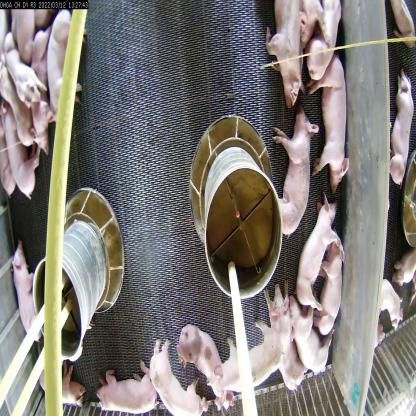Pig: (214, 304, 284, 406), (173, 296, 232, 404), (308, 55, 351, 199), (274, 113, 322, 238), (264, 0, 301, 121), (266, 275, 306, 386), (40, 20, 81, 128), (312, 240, 355, 342), (295, 202, 334, 310), (95, 363, 174, 416), (295, 290, 335, 382), (149, 356, 198, 416), (10, 240, 40, 333), (6, 40, 38, 109), (8, 101, 30, 190)
